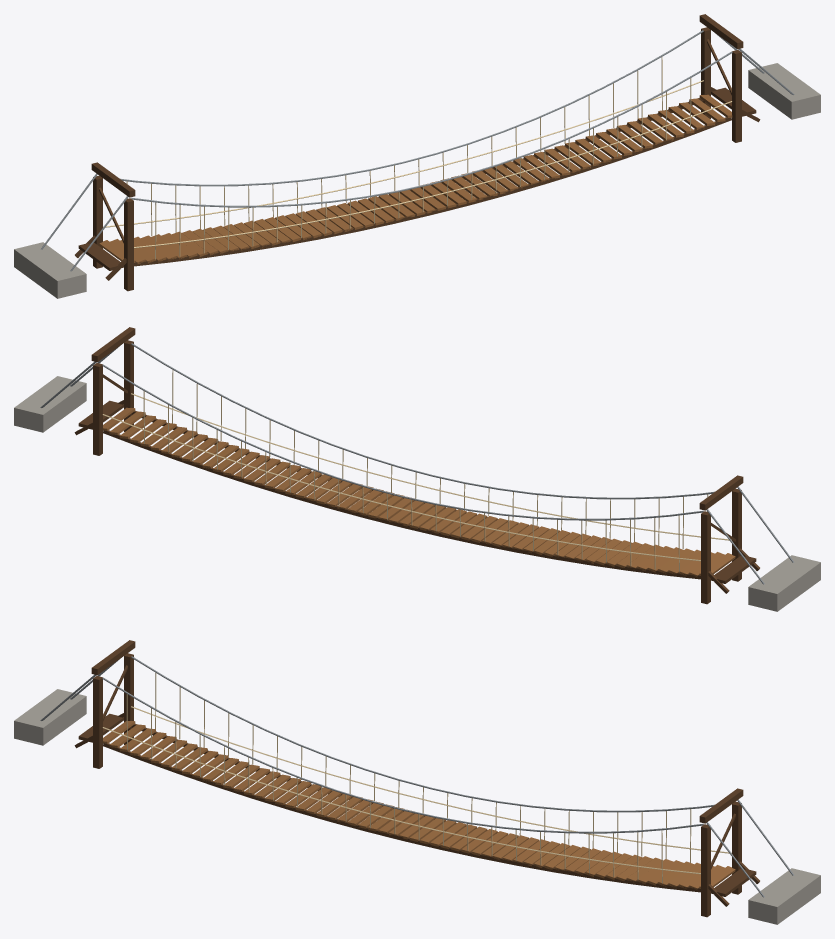
The model's file is puente.glb.
The picture shows the model from 3 angles, top to bottom: view 1: azimuth 30°, elevation 25°; view 2: azimuth 150°, elevation 25°; view 3: azimuth 330°, elevation 25°; orthographic projection.
Parts seen in each view (by area): view 1: puente; view 2: puente; view 3: puente.
Part boxes in pixels (<box>): puente: <box>14,14,820,298</box>; puente: <box>14,327,820,611</box>; puente: <box>14,640,820,924</box>.
Bounding box in the file's own units: 31.4 × 4.01 × 3.1.
